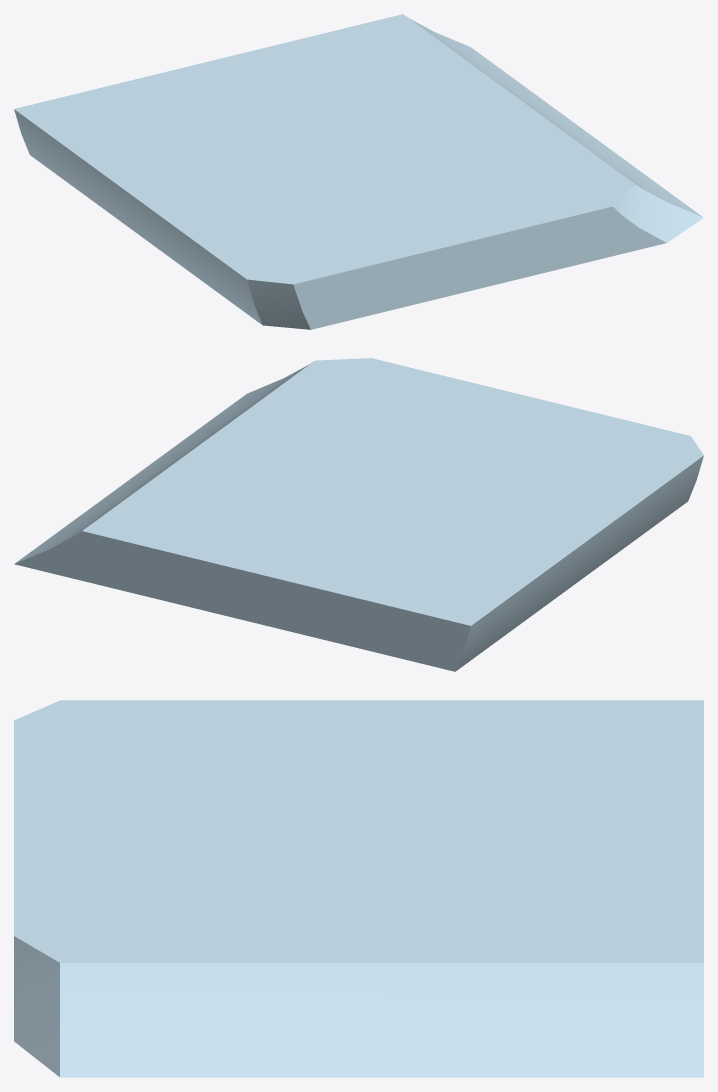
File: STAM - S5-0.gltf
The picture shows the model from 3 angles, top to bottom: view 1: azimuth 30°, elevation 25°; view 2: azimuth 150°, elevation 25°; view 3: azimuth 270°, elevation 25°; orthographic projection. The views are drawn at different scales.
Visible parts, largest first — view 1: S5-0; view 2: S5-0; view 3: S5-0.
Part boxes in pixels (x1,y1,x2,y2): S5-0: [14, 14, 703, 329]; S5-0: [14, 358, 703, 671]; S5-0: [14, 700, 703, 1077].
Size of the model in its own units: 0.0159 by 0.00165 by 0.015.
